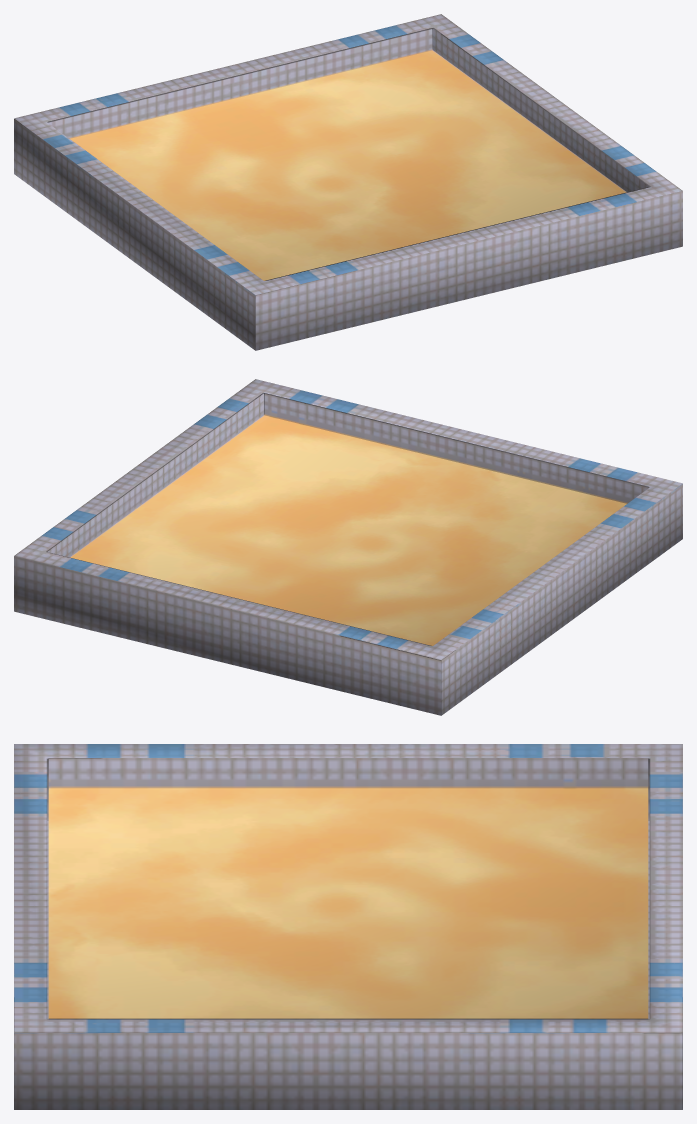
Rendered from Sandpit.fbx.
3 views of the same model, one above another, from view 1: azimuth 30°, elevation 25°; view 2: azimuth 150°, elevation 25°; view 3: azimuth 270°, elevation 25° (orthographic). The views are drawn at different scales.
Visible parts, largest first — view 1: sand pit; view 2: sand pit; view 3: sand pit.
Part boxes in pixels (x1,y1,x2,y2): sand pit: (14,14,682,350); sand pit: (14,379,682,715); sand pit: (14,744,682,1109).
Bounding box in the file's own units: 5736 × 714 × 5615.
